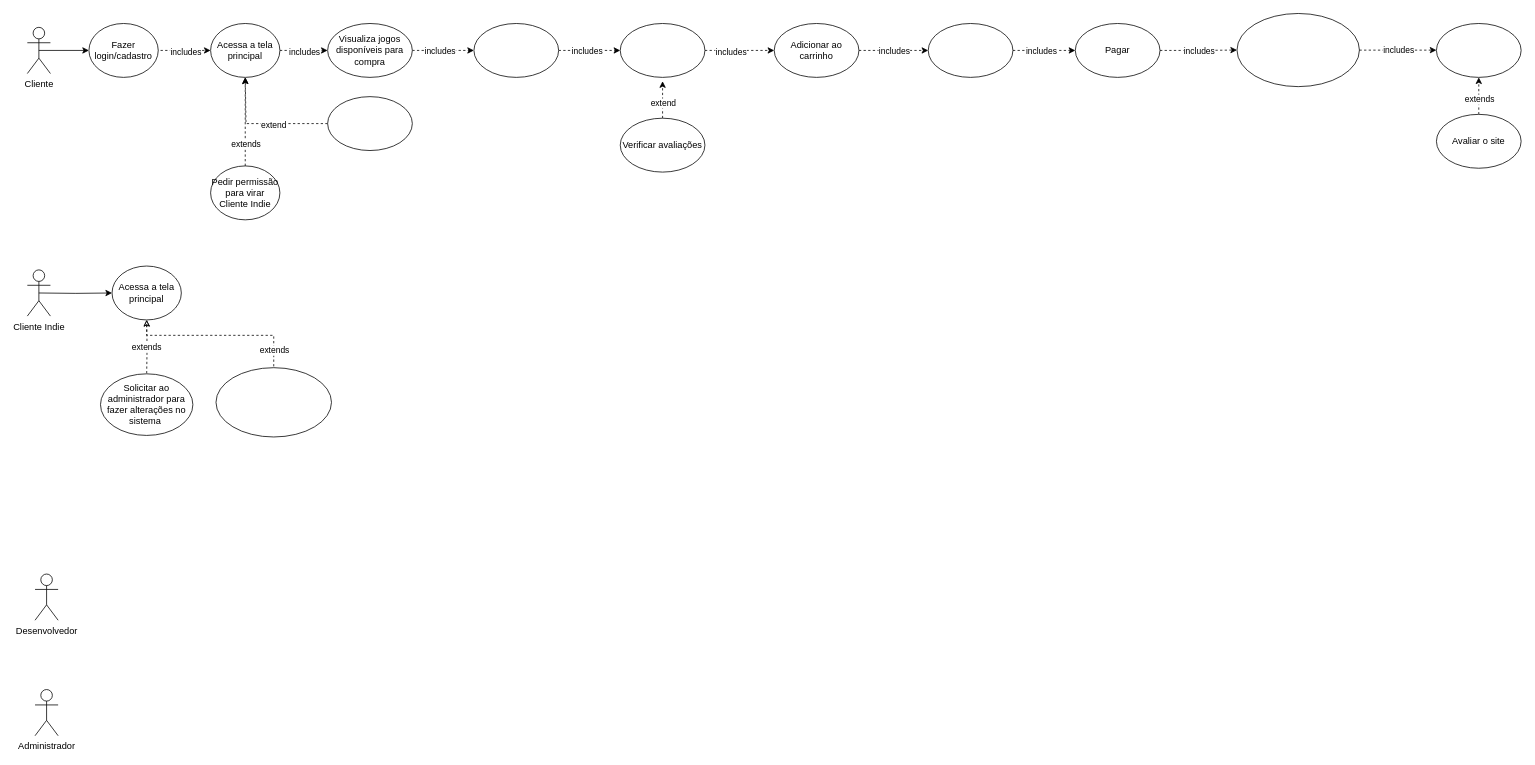
The diagram is 1535 pixels wide and 765 high, and some of its shapes have lost their labels. The shapes that lost their labels are listed below. From the top down, each one's box as (x1, y1, x2, y2) in pixels, then its label:
(473, 23, 559, 77): Seleciona um jogo
(619, 23, 705, 77): Verifica informações do jogo
(927, 23, 1013, 77): Escolher método de pagamento
(1236, 13, 1359, 87): Disponibilizar arquivo de instalação do jogo
(1436, 23, 1521, 77): Finalizar operação
(327, 96, 412, 151): Verificar histórico de compras
(215, 367, 331, 437): Solicitar ao administrador para autorizar o lançamento do jogo
